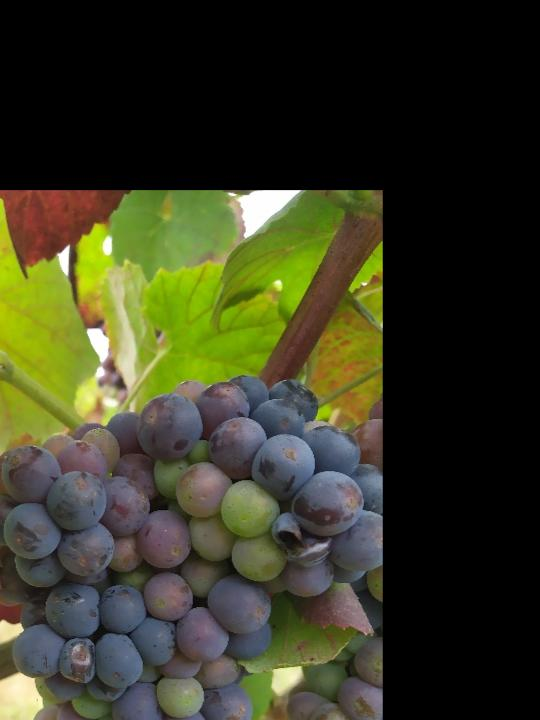grape: (0, 372, 383, 720)
